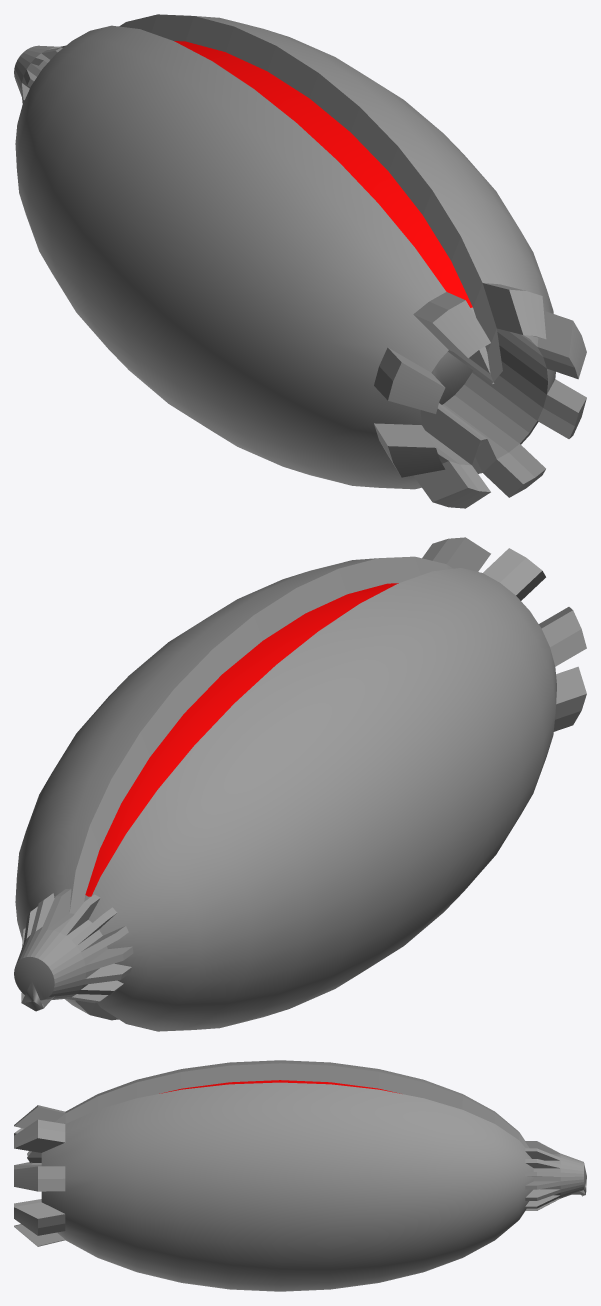
The model's file is Primary Weapon Upgrade Pod.FBX.
The picture shows the model from 3 angles, top to bottom: view 1: azimuth 30°, elevation 25°; view 2: azimuth 150°, elevation 25°; view 3: azimuth 270°, elevation 25°; orthographic projection. The views are drawn at different scales.
Visible parts, largest first — view 1: Sphere001; view 2: Sphere001; view 3: Sphere001.
Part boxes in pixels (<box>): Sphere001: <box>14,14,586,508</box>; Sphere001: <box>14,537,586,1031</box>; Sphere001: <box>14,1060,586,1291</box>.
Bounding box in the file's own units: 46.37 × 45.48 × 115.
